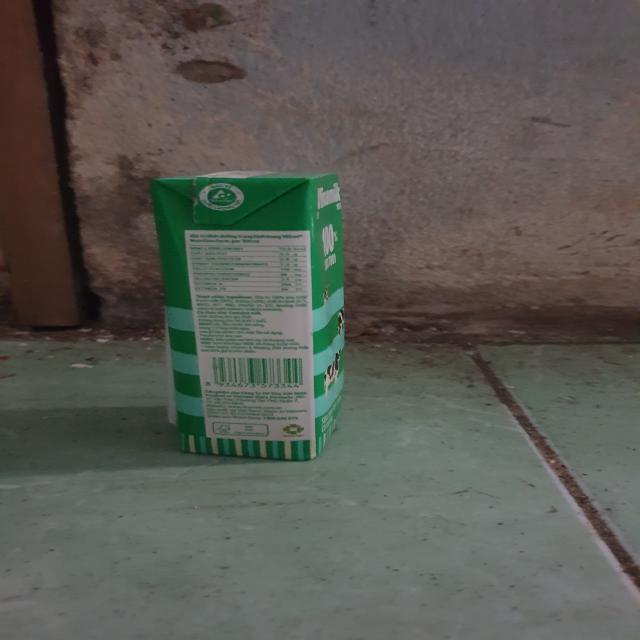Vina: (145, 169, 355, 462)
